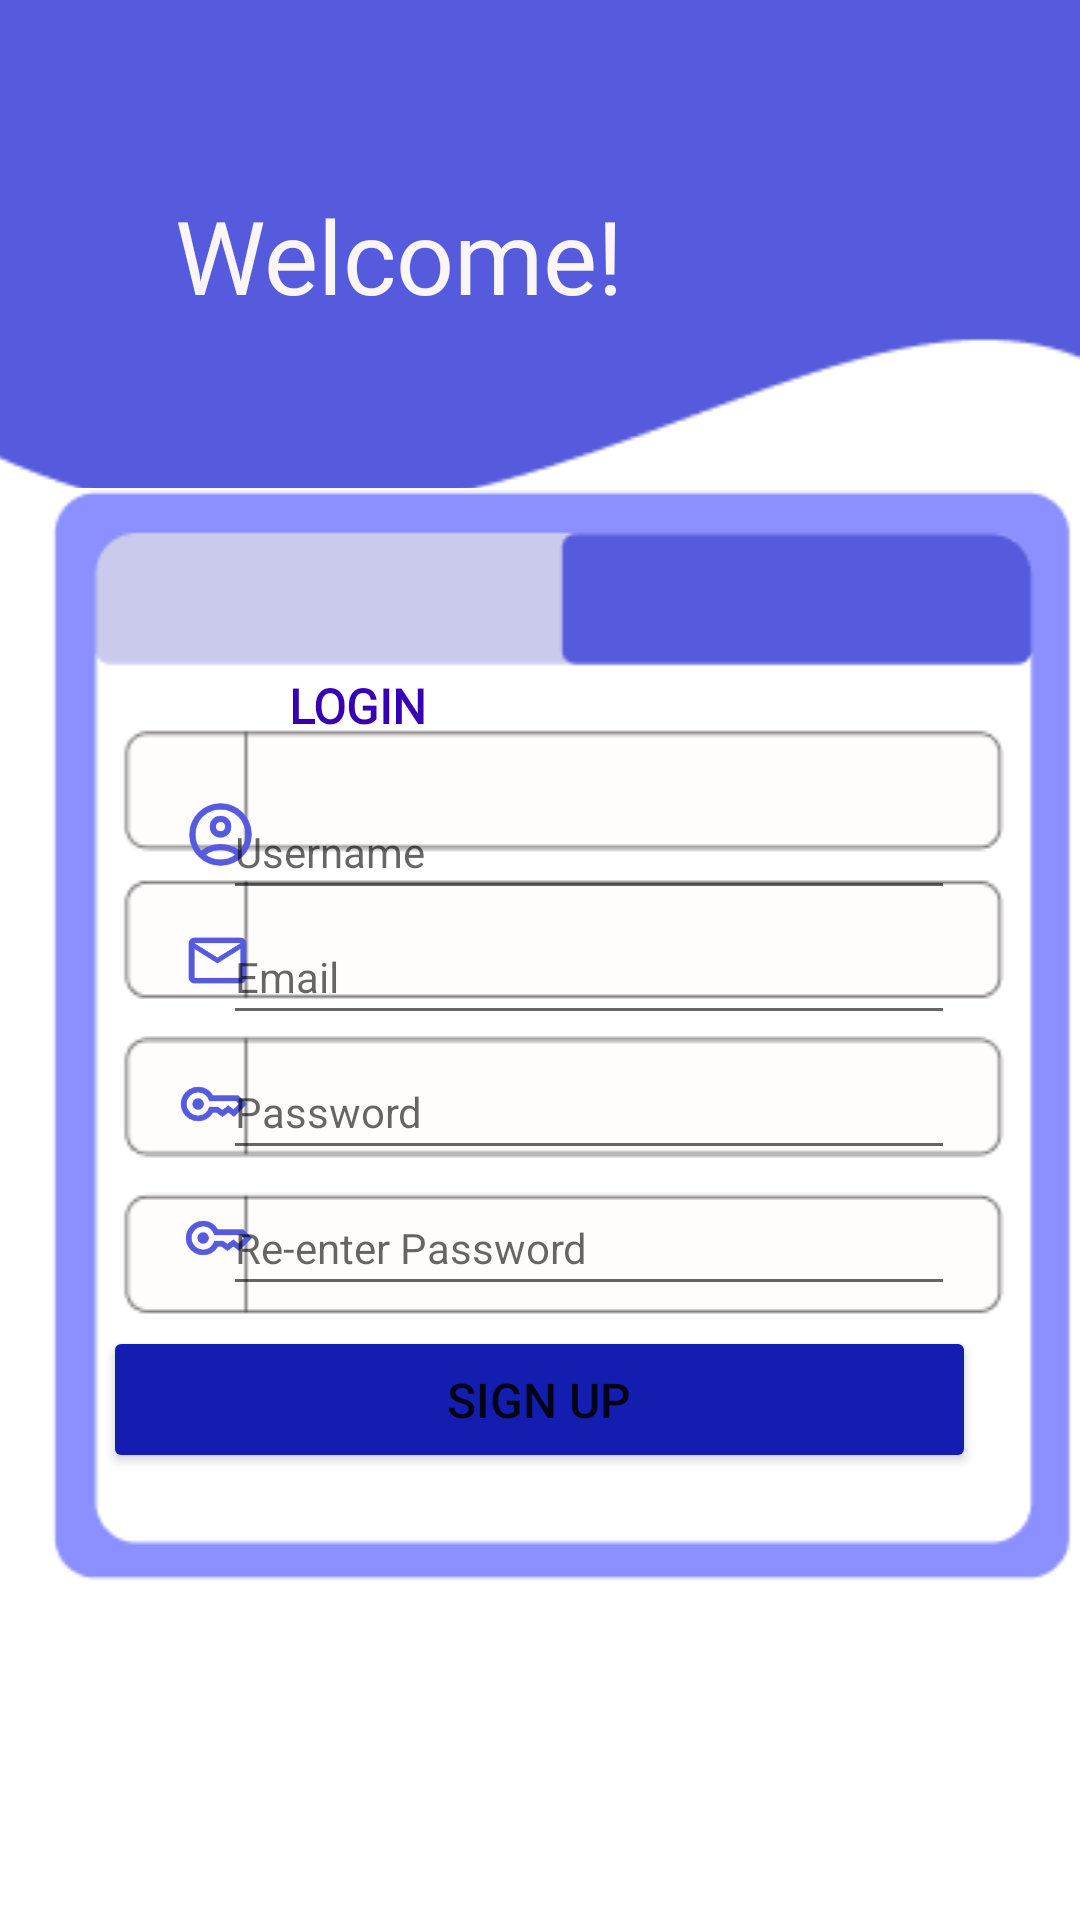

Icons on this 1080 × 1920 Android screen, each with the point to tap as [x,y]:
keyb: [214,1104], [217,1238]
mailb: [217,960]
profileb: [220,831]
